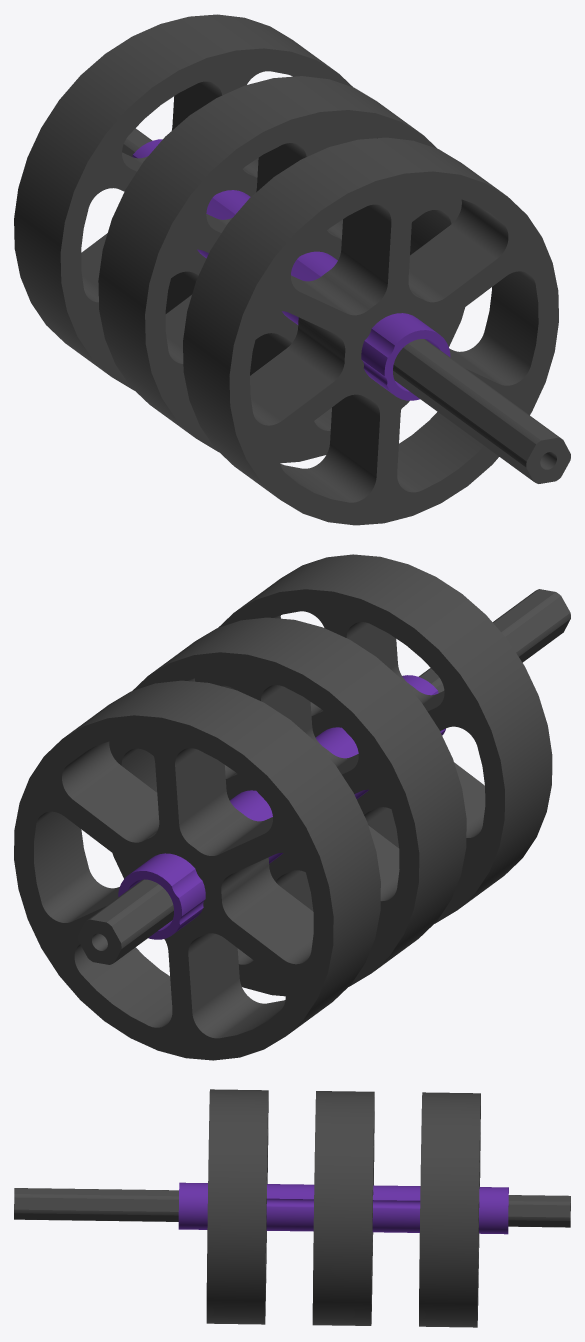
3 renders of one model, top to bottom at view 1: azimuth 30°, elevation 25°; view 2: azimuth 150°, elevation 25°; view 3: azimuth 270°, elevation 25°, orthographic. The views are drawn at different scales.
Parts seen in each view (by area): view 1: 4 Inch Thrifty Squish Wheel (TTB-0057) (×3), 1/2" ThunderHex - 9.5", Part 5, Part 6 (×2); view 2: 4 Inch Thrifty Squish Wheel (TTB-0057) (×3), 1/2" ThunderHex - 9.5", Part 5, Part 6 (×2); view 3: 4 Inch Thrifty Squish Wheel (TTB-0057) (×3), 1/2" ThunderHex - 9.5", Part 6 (×2), Part 5 (×2).
Boxes of the visible parts, x1,y1,x2,y2 form: 4 Inch Thrifty Squish Wheel (TTB-0057) (×3): [14, 14, 558, 525]; 1/2" ThunderHex - 9.5": [122, 128, 570, 483]; Part 5: [361, 313, 450, 400]; Part 6 (×2): [197, 190, 337, 324]; 4 Inch Thrifty Squish Wheel (TTB-0057) (×3): [14, 554, 552, 1060]; 1/2" ThunderHex - 9.5": [78, 589, 570, 964]; Part 5: [118, 853, 205, 939]; Part 6 (×2): [230, 727, 368, 863]; 4 Inch Thrifty Squish Wheel (TTB-0057) (×3): [206, 1089, 480, 1327]; 1/2" ThunderHex - 9.5": [14, 1188, 570, 1227]; Part 6 (×2): [266, 1184, 420, 1232]; Part 5 (×2): [178, 1182, 508, 1234].
Size of the model in its own units: 0.1025 by 0.1027 by 0.2415.
